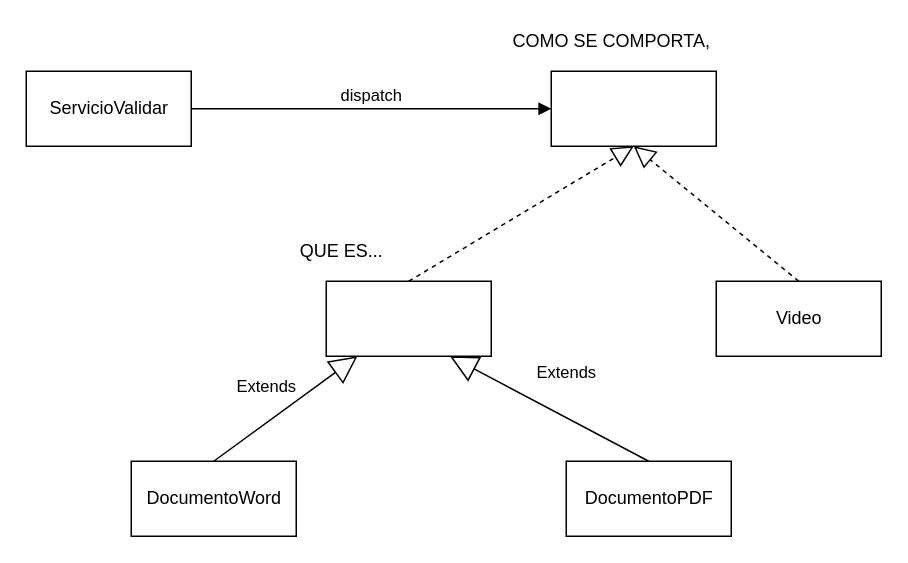
Some shapes in this 908 by 563 pixel diagram are drawn without their labels. The centre of each missing label's shape, as x and y in pixels:
«Abstrac» Documento: pixel 408 318
«interface» Validacion: pixel 633 108
